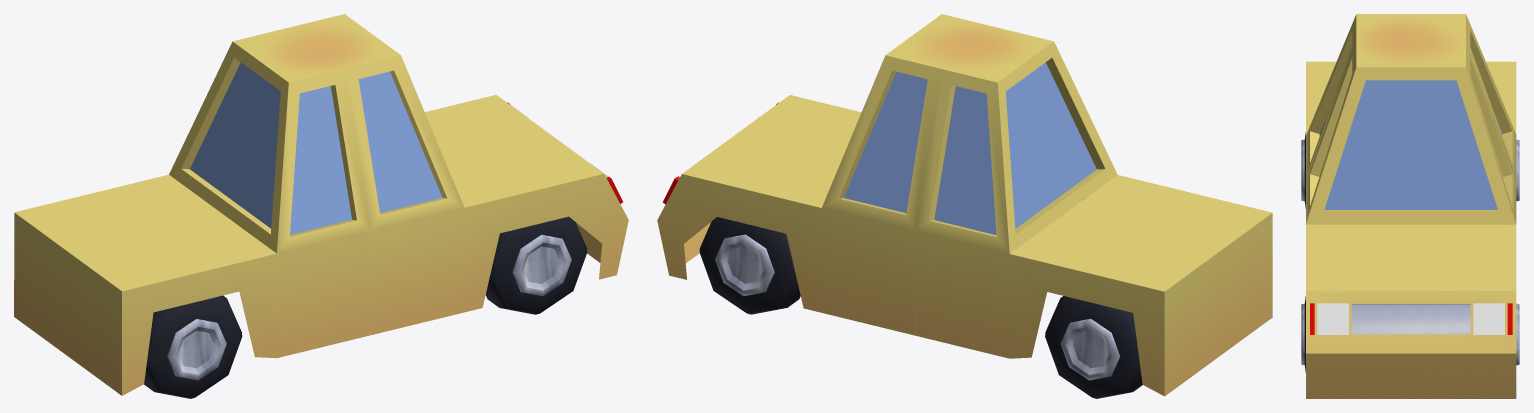
The model's file is Voiture_jaune_fbx.fbx.
The picture shows the model from 3 angles, left to right: view 1: azimuth 30°, elevation 25°; view 2: azimuth 150°, elevation 25°; view 3: azimuth 270°, elevation 25°; orthographic projection. The views are drawn at different scales.
Visible parts, largest first — view 1: Corps_voiture_jaune, Roue_19, Roue_18; view 2: Corps_voiture_jaune, Roue_17, Roue_16; view 3: Corps_voiture_jaune, Roue_18, Roue_19, Roue_16, Roue_17.
Boxes of the visible parts, left/top/right/bottom form: Corps_voiture_jaune: left=14, top=14, right=628, bottom=395; Roue_19: left=144, top=295, right=242, bottom=398; Roue_18: left=485, top=216, right=587, bottom=314; Corps_voiture_jaune: left=657, top=14, right=1272, bottom=396; Roue_17: left=1045, top=296, right=1142, bottom=398; Roue_16: left=699, top=217, right=800, bottom=314; Corps_voiture_jaune: left=1306, top=14, right=1516, bottom=398; Roue_18: left=1301, top=296, right=1305, bottom=372; Roue_19: left=1301, top=132, right=1305, bottom=208; Roue_16: left=1516, top=303, right=1519, bottom=365; Roue_17: left=1516, top=139, right=1519, bottom=201.
Size of the model in its own units: 244 by 125 by 93.58.
